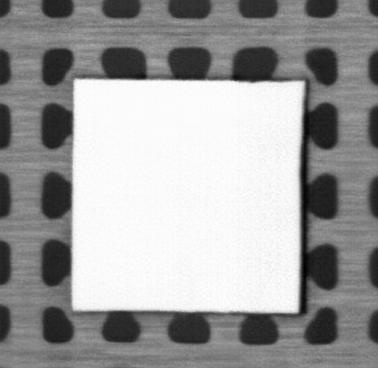DIE_BROKEN: (298, 79, 308, 316)
